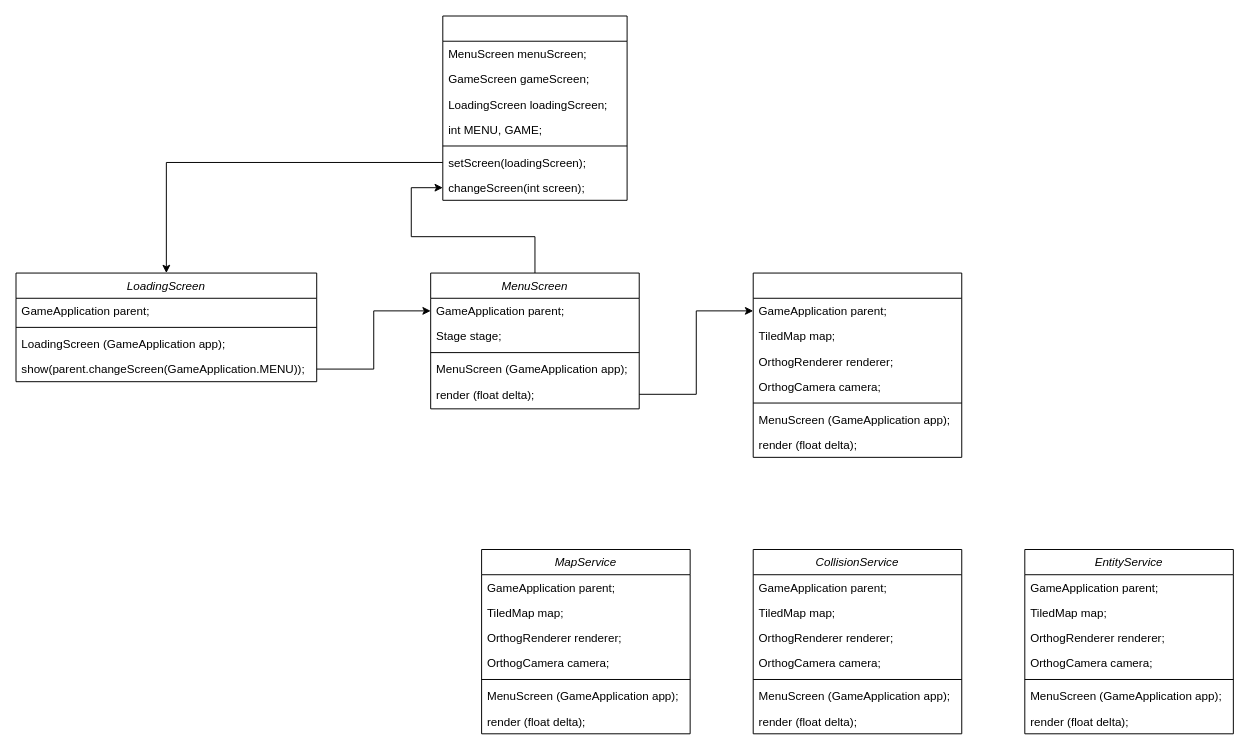
The diagram is 1249 pixels wide and 750 high, and some of its shapes have lost their labels. The box of each missing label's shape, as (x1, y1, x2, y2) in pixels:
GameApplication: (442, 15, 627, 200)
GameScreen: (752, 272, 962, 457)
